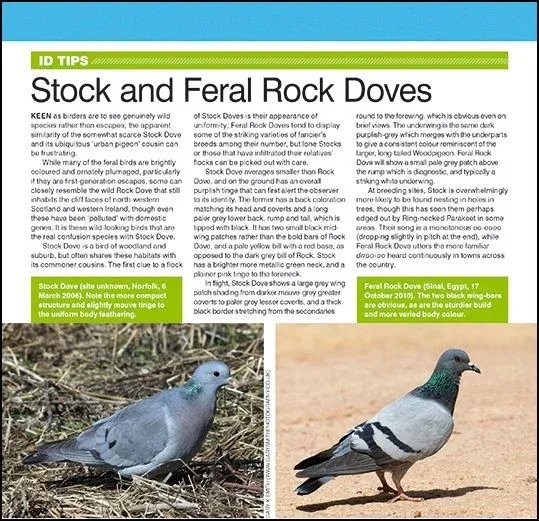Flying Rat: (296, 342, 512, 505), (35, 358, 233, 491)
